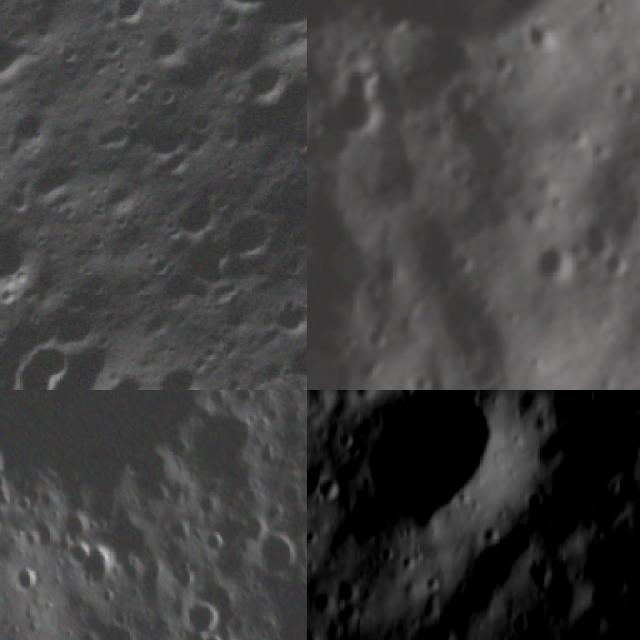crater: (353, 390, 530, 535), (214, 196, 291, 276), (0, 204, 58, 309), (234, 58, 296, 120), (171, 182, 228, 242), (540, 569, 600, 625), (24, 331, 83, 386), (146, 28, 197, 79), (519, 13, 566, 67), (533, 234, 580, 286), (151, 354, 218, 390), (70, 543, 121, 586), (252, 535, 301, 579), (182, 602, 234, 638), (109, 0, 158, 37), (95, 364, 157, 390), (598, 246, 635, 284), (334, 568, 376, 600), (408, 362, 441, 390), (314, 478, 337, 509), (14, 566, 39, 594), (429, 622, 461, 640), (307, 622, 324, 640)
